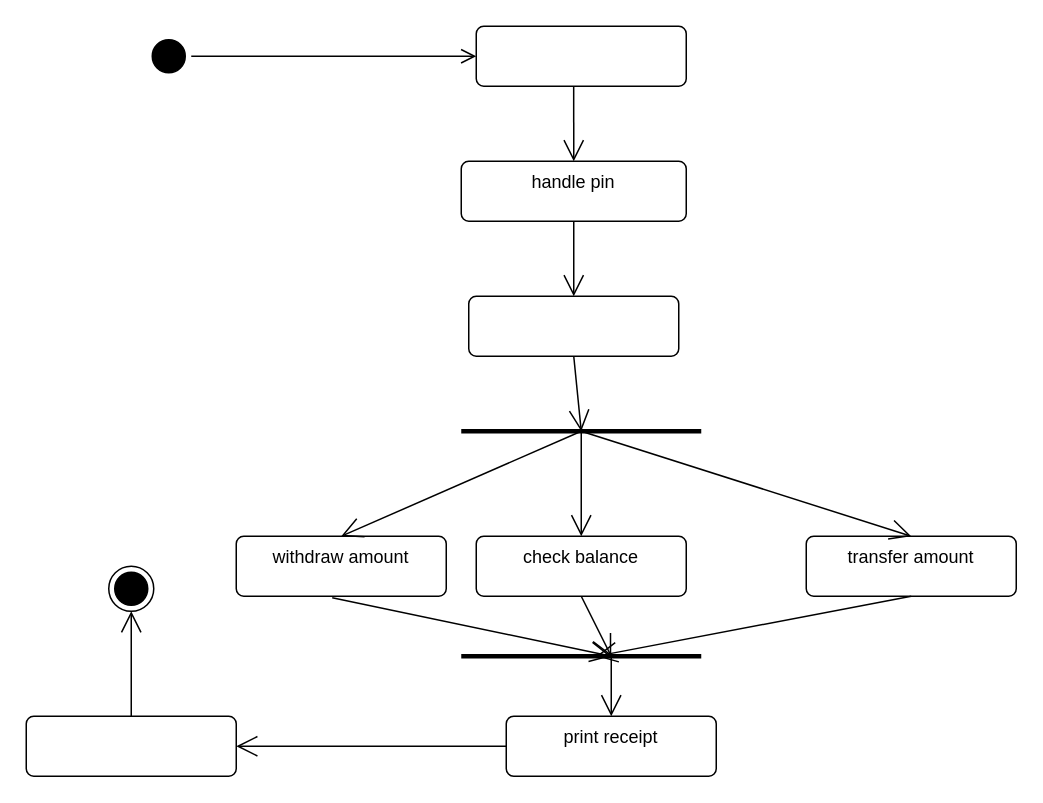
Image size: 1043x803. Some labels were removed from this diagram. The centre of each missing label's shape, as x and y in pixels:
handle card: (x=580, y=55)
handle choice: (x=573, y=325)
logout: (x=130, y=745)
